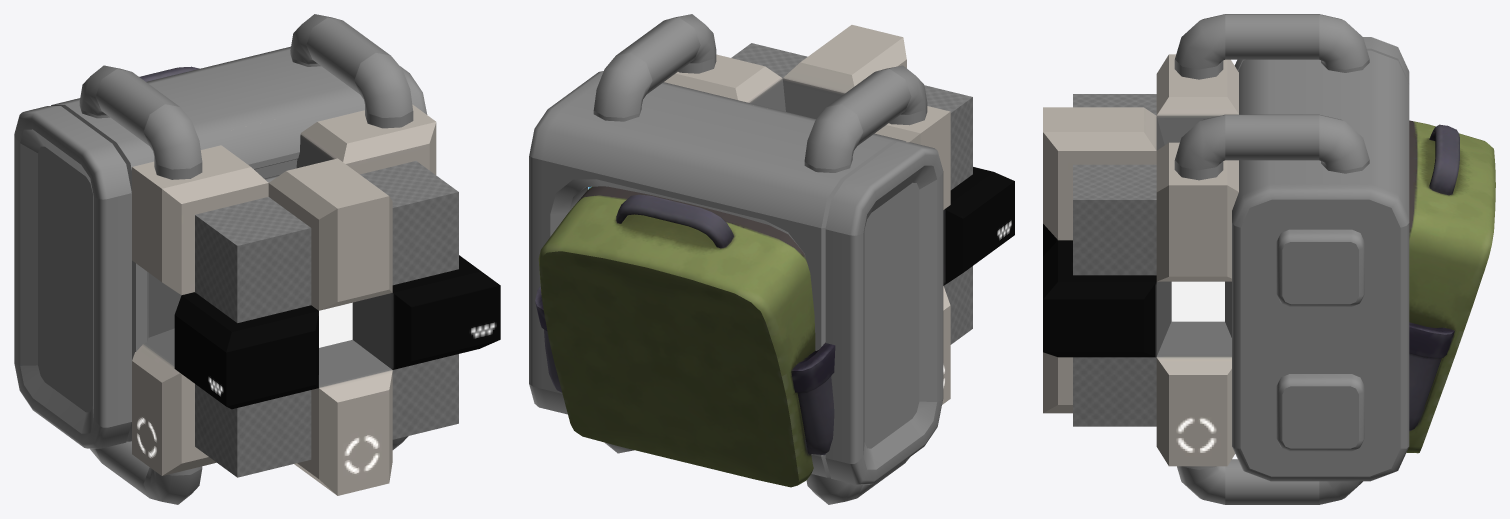
The model's file is IG_Backpack_Cube.fbx.
3 renders of one model, left to right at view 1: azimuth 30°, elevation 25°; view 2: azimuth 150°, elevation 25°; view 3: azimuth 270°, elevation 25°, orthographic. The views are drawn at different scales.
Parts seen in each view (by area): view 1: Cubbbe_pCube1, Boss_Horsemen_B_Backpack; view 2: Boss_Horsemen_B_Backpack, Backpack_LV1, Cubbbe_pCube1; view 3: Boss_Horsemen_B_Backpack, Cubbbe_pCube1, Backpack_LV1.
Boxes of the visible parts, x1,y1,x2,y2 form: Cubbbe_pCube1: [132, 104, 500, 495]; Boss_Horsemen_B_Backpack: [14, 14, 427, 504]; Boss_Horsemen_B_Backpack: [529, 14, 943, 504]; Backpack_LV1: [535, 186, 835, 487]; Cubbbe_pCube1: [664, 25, 1014, 404]; Boss_Horsemen_B_Backpack: [1174, 14, 1409, 504]; Cubbbe_pCube1: [1043, 54, 1238, 466]; Backpack_LV1: [1406, 120, 1495, 453].
Size of the model in its own units: 0.5123 by 0.5649 by 0.5963.
